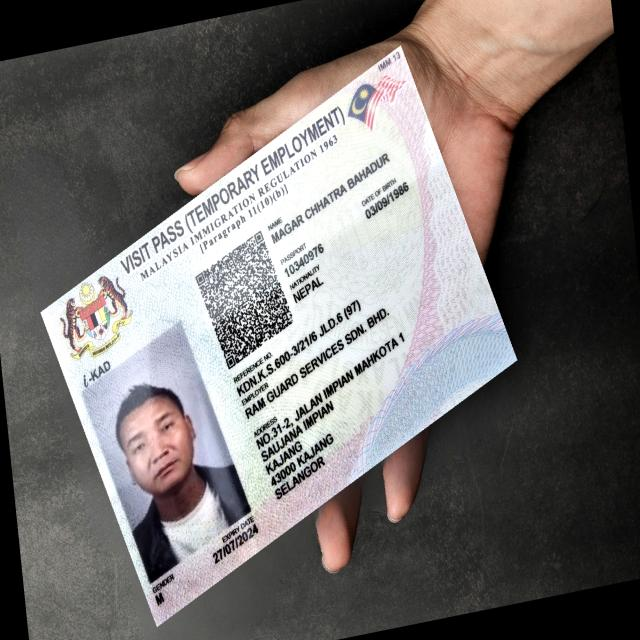ikad-temp: (39, 43, 518, 626)
